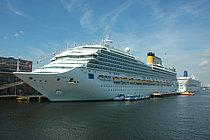Ship: (11, 36, 182, 105), (176, 70, 205, 98)
